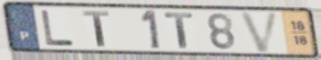1: (138, 9, 162, 51)
8: (206, 12, 237, 51)
L: (39, 8, 77, 47)
T: (162, 12, 195, 50), (81, 9, 112, 48)
V: (237, 11, 282, 54)
